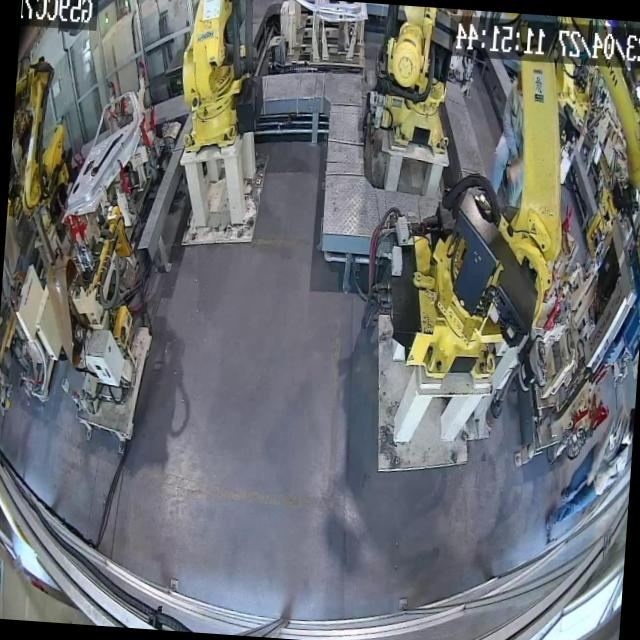Person: (488, 68, 530, 210)
